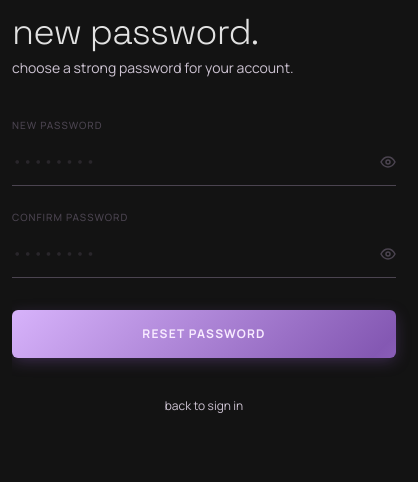
Test case: ResetPasswordForm › shows invalid message when action returns { error: "invalid" }
Type "NewPass1!" into the password field labelled "new password" at (204, 162), box [12, 137, 396, 186]
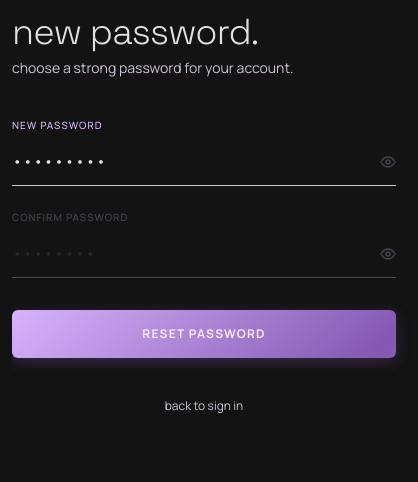
Type "NewPass1!" into the password field labelled "confirm password" at (204, 254), box [12, 229, 396, 278]
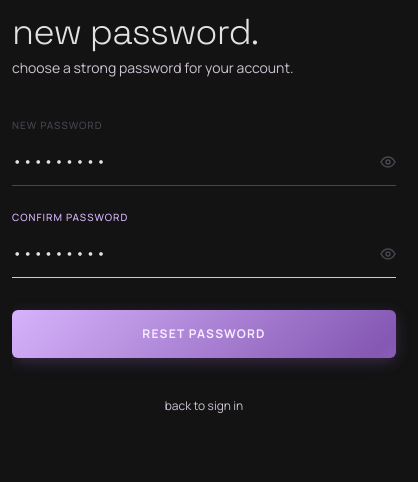
Click the button "reset password" at (204, 334), box [12, 310, 396, 358]
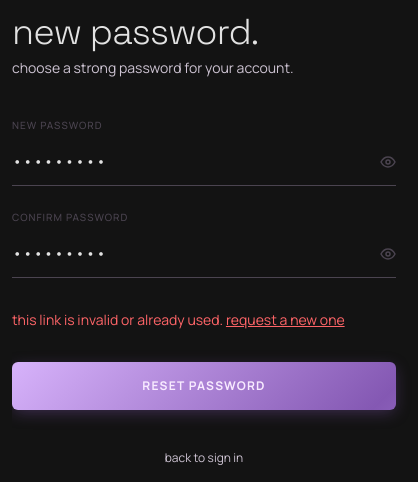
Result: the text "this link is invalid or already used. request a new one" is shown at [12, 310, 396, 330]
